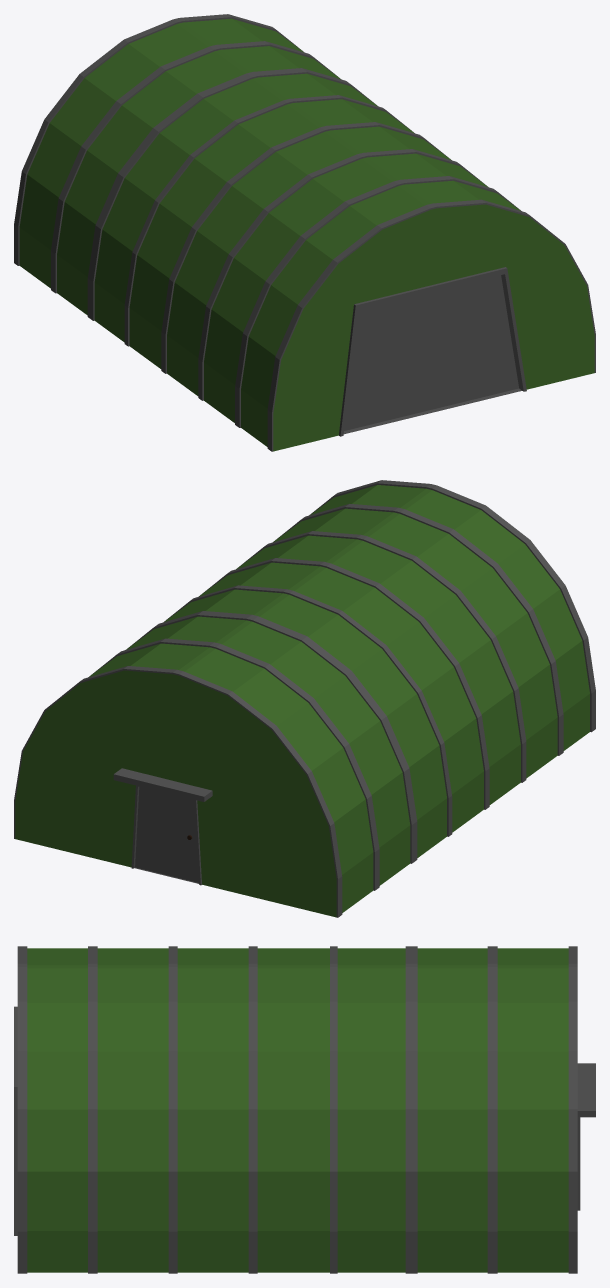
File: Building_MilitaryHangar.fbx
3 renders of one model, top to bottom at view 1: azimuth 30°, elevation 25°; view 2: azimuth 150°, elevation 25°; view 3: azimuth 270°, elevation 25°, orthographic. The views are drawn at different scales.
Parts seen in each view (by area): view 1: Cube; view 2: Cube; view 3: Cube.
Boxes of the visible parts, box(x1,y1,x2,y2) form: Cube: box(14, 14, 595, 451); Cube: box(14, 480, 595, 917); Cube: box(14, 946, 595, 1273).
Bounding box in the file's own units: 420 × 253 × 601.
